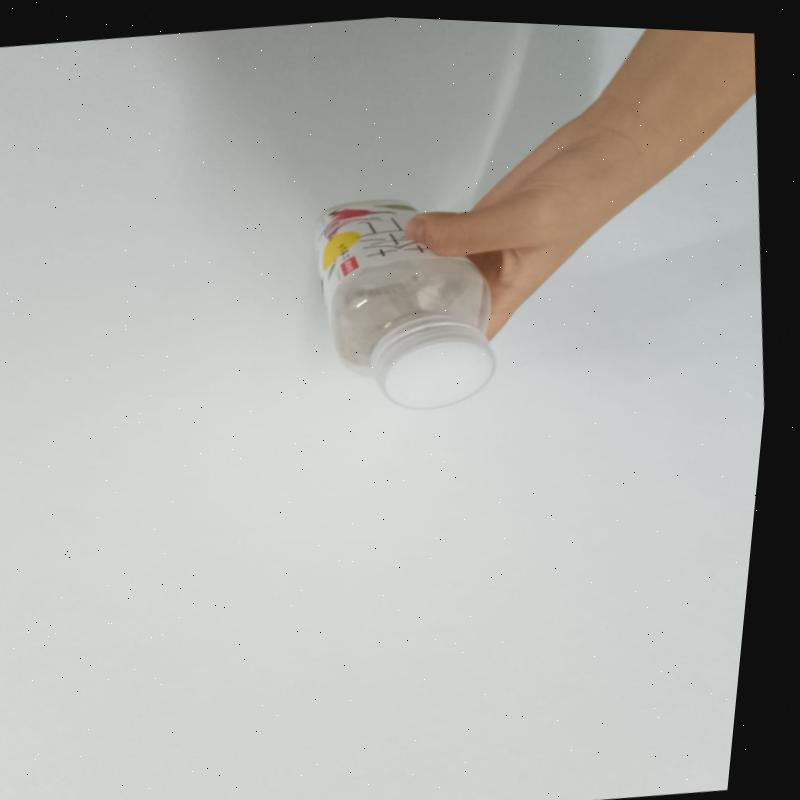botella: (294, 177, 519, 422)
